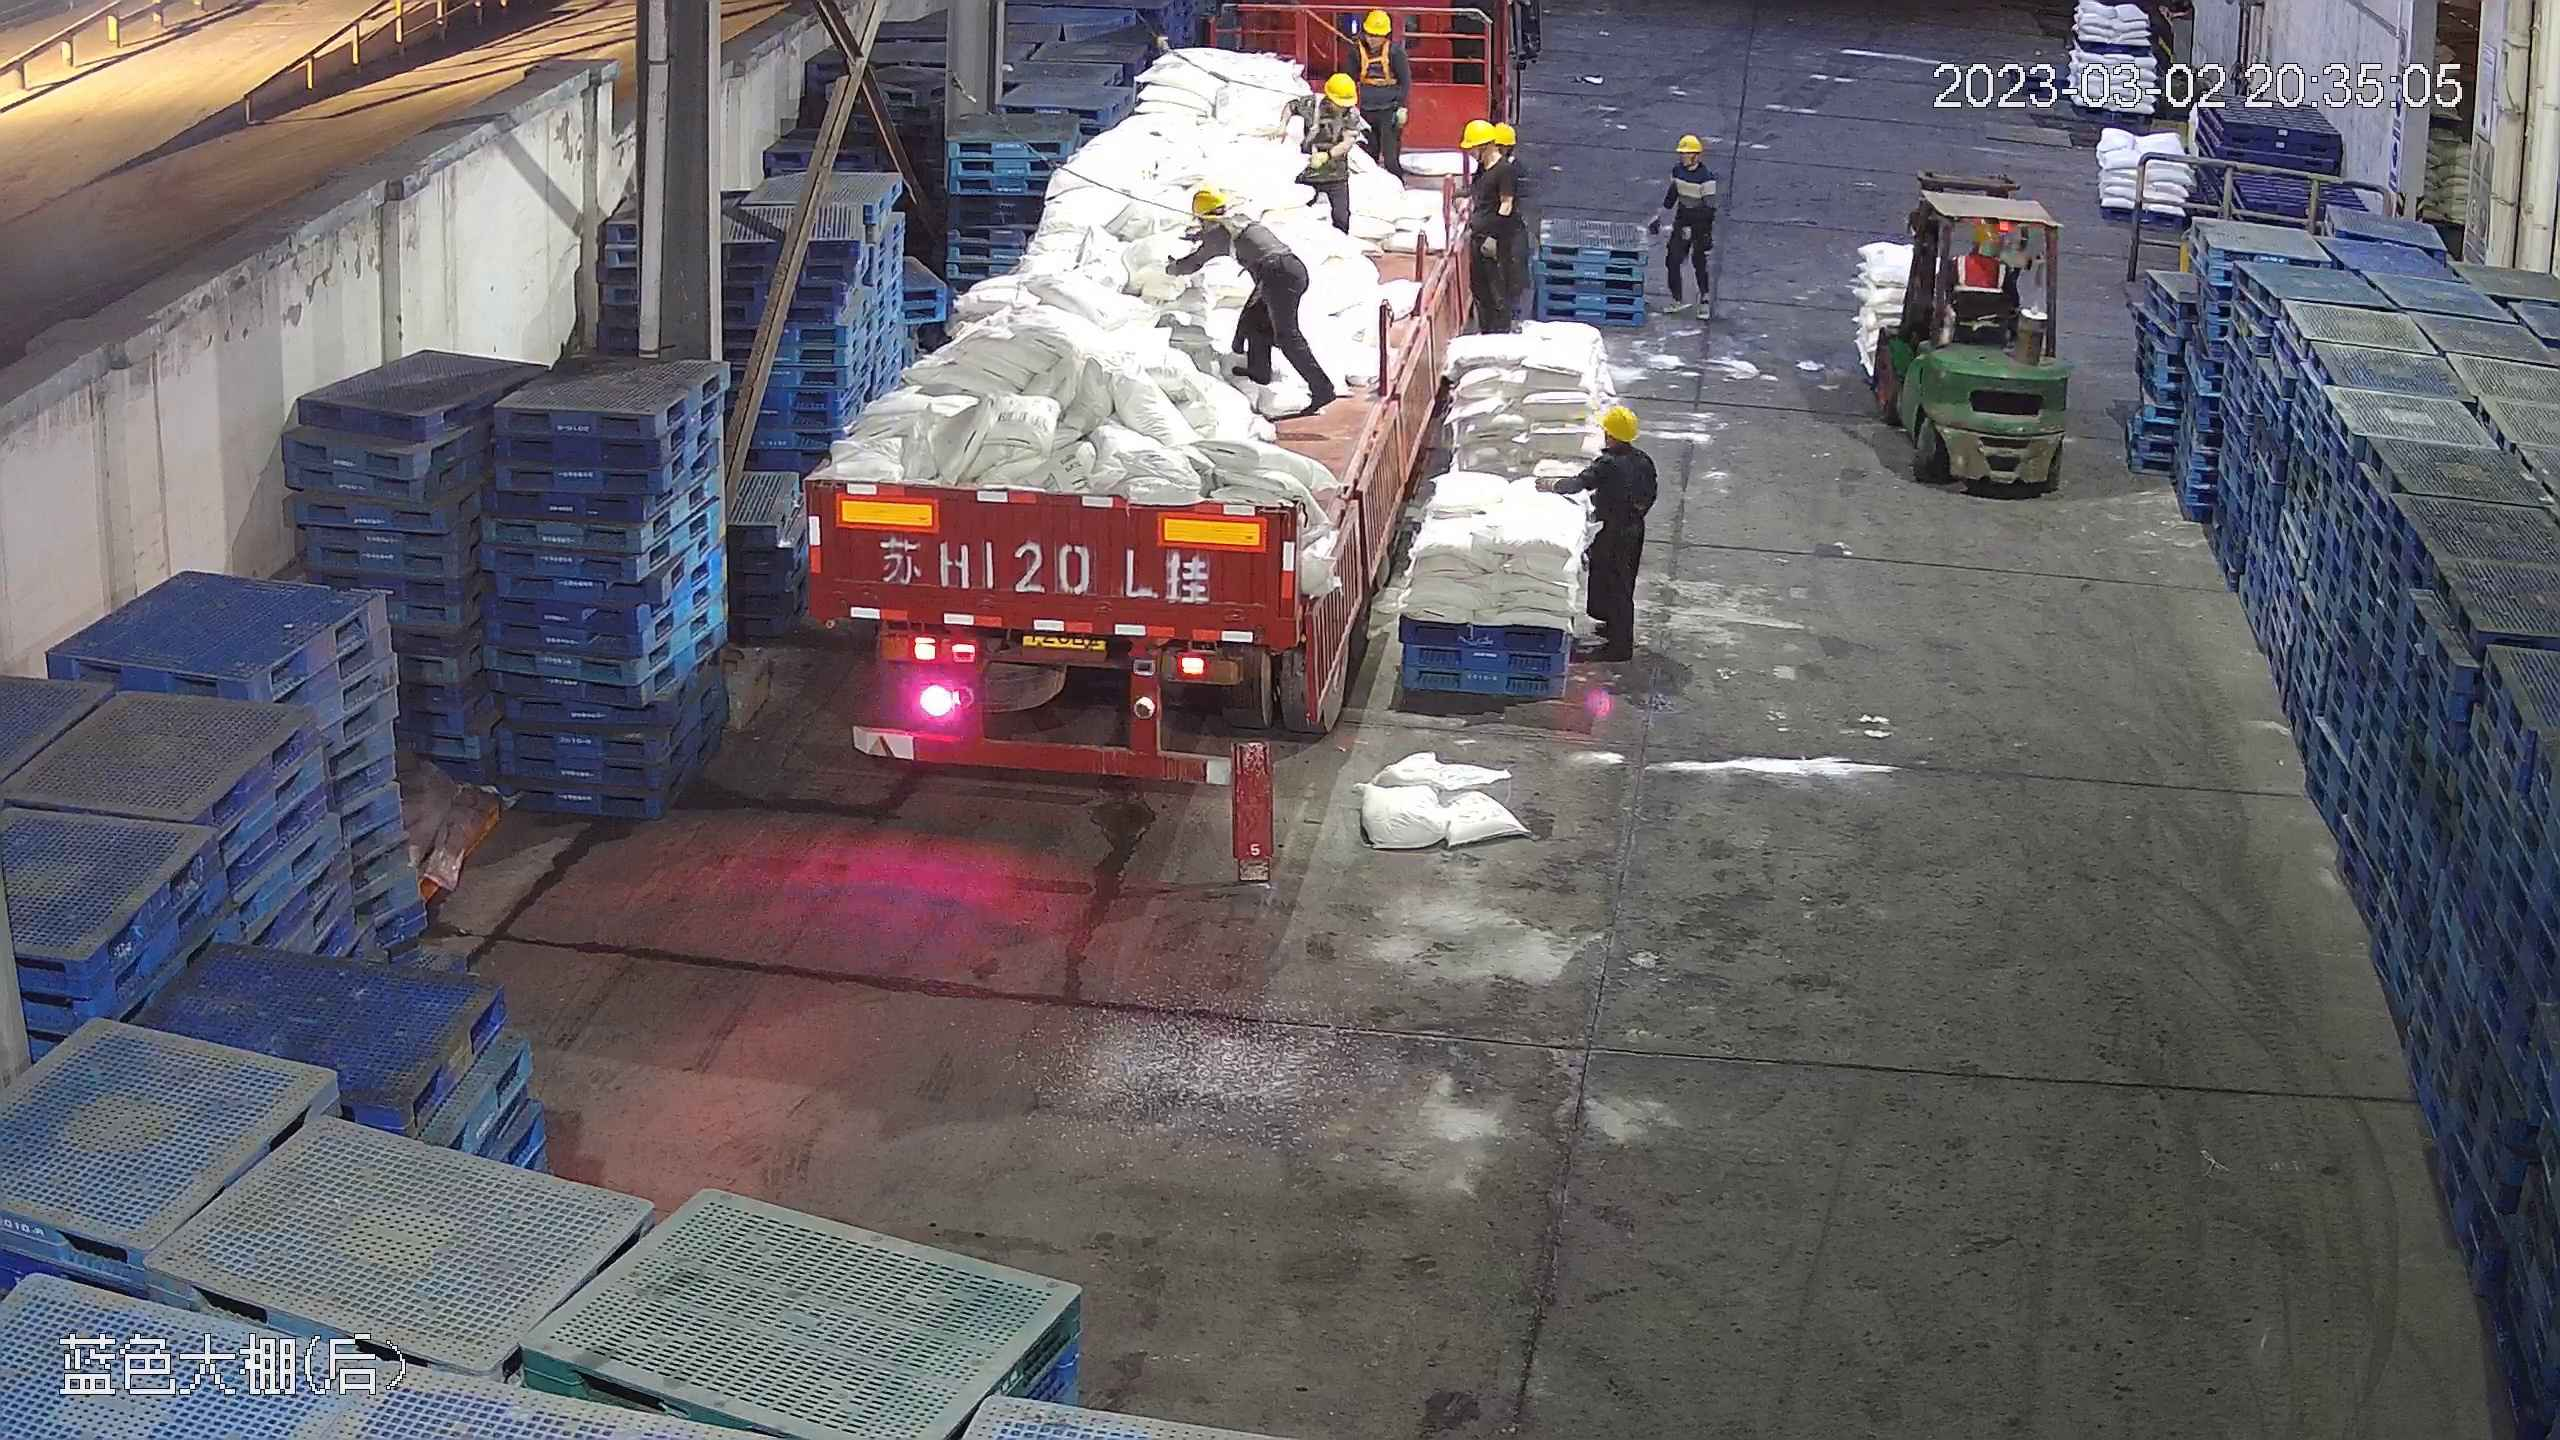belt: (1182, 186, 1267, 256), (1225, 202, 1286, 260), (1350, 27, 1402, 83), (1300, 107, 1350, 159)
head: (1467, 118, 1531, 327), (1579, 403, 1652, 494), (1305, 57, 1375, 145), (1181, 184, 1263, 259), (1469, 121, 1527, 201), (1349, 8, 1407, 76), (1662, 134, 1716, 190)
helmet: (1597, 401, 1641, 440), (1187, 184, 1228, 220), (1318, 68, 1358, 103), (1458, 121, 1500, 148), (1362, 7, 1394, 35), (1494, 120, 1520, 146), (1675, 133, 1704, 153)
people: (1154, 177, 1335, 415), (1535, 401, 1656, 656), (1289, 69, 1378, 239), (1466, 119, 1536, 333), (1653, 130, 1723, 311), (1342, 10, 1414, 186)
truck: (795, 1, 1495, 775)
